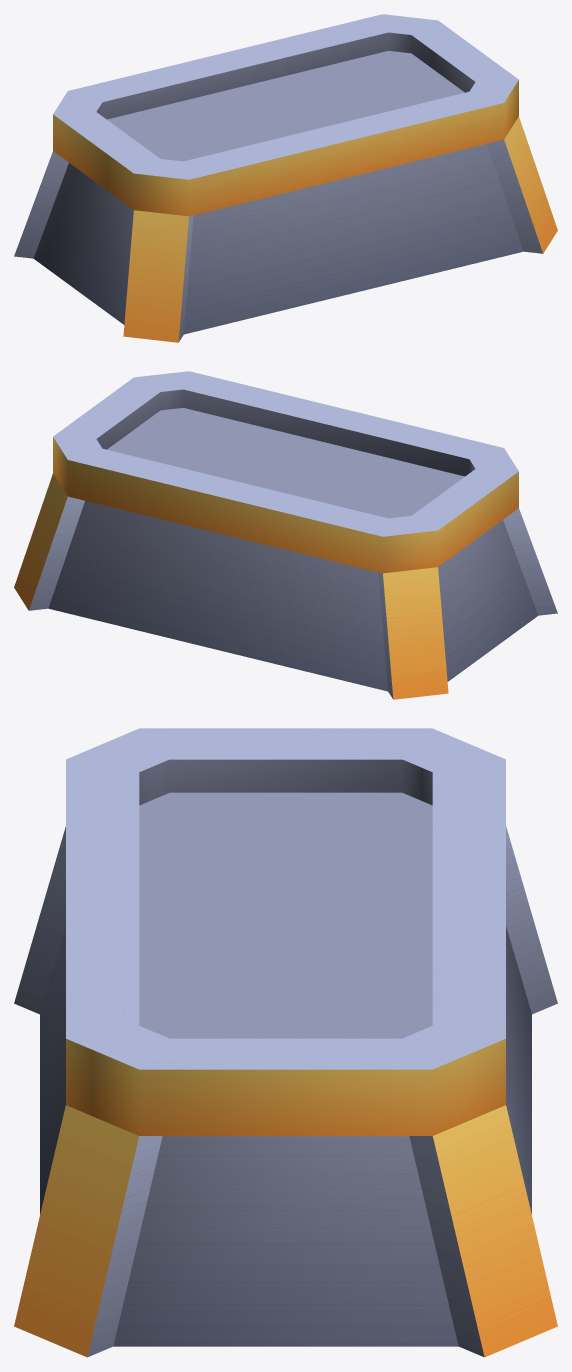
The model's file is table-inset.glb.
3 views of the same model, one above another, from view 1: azimuth 30°, elevation 25°; view 2: azimuth 150°, elevation 25°; view 3: azimuth 270°, elevation 25° (orthographic). The views are drawn at different scales.
Parts seen in each view (by area): view 1: table-inset; view 2: table-inset; view 3: table-inset.
Part boxes in pixels (x1,y1,x2,y2): table-inset: [14, 14, 557, 342]; table-inset: [14, 371, 557, 699]; table-inset: [14, 728, 557, 1357].
Bounding box in the file's own units: 1.24 × 0.4 × 0.7414.
1 material, 1 textured.
